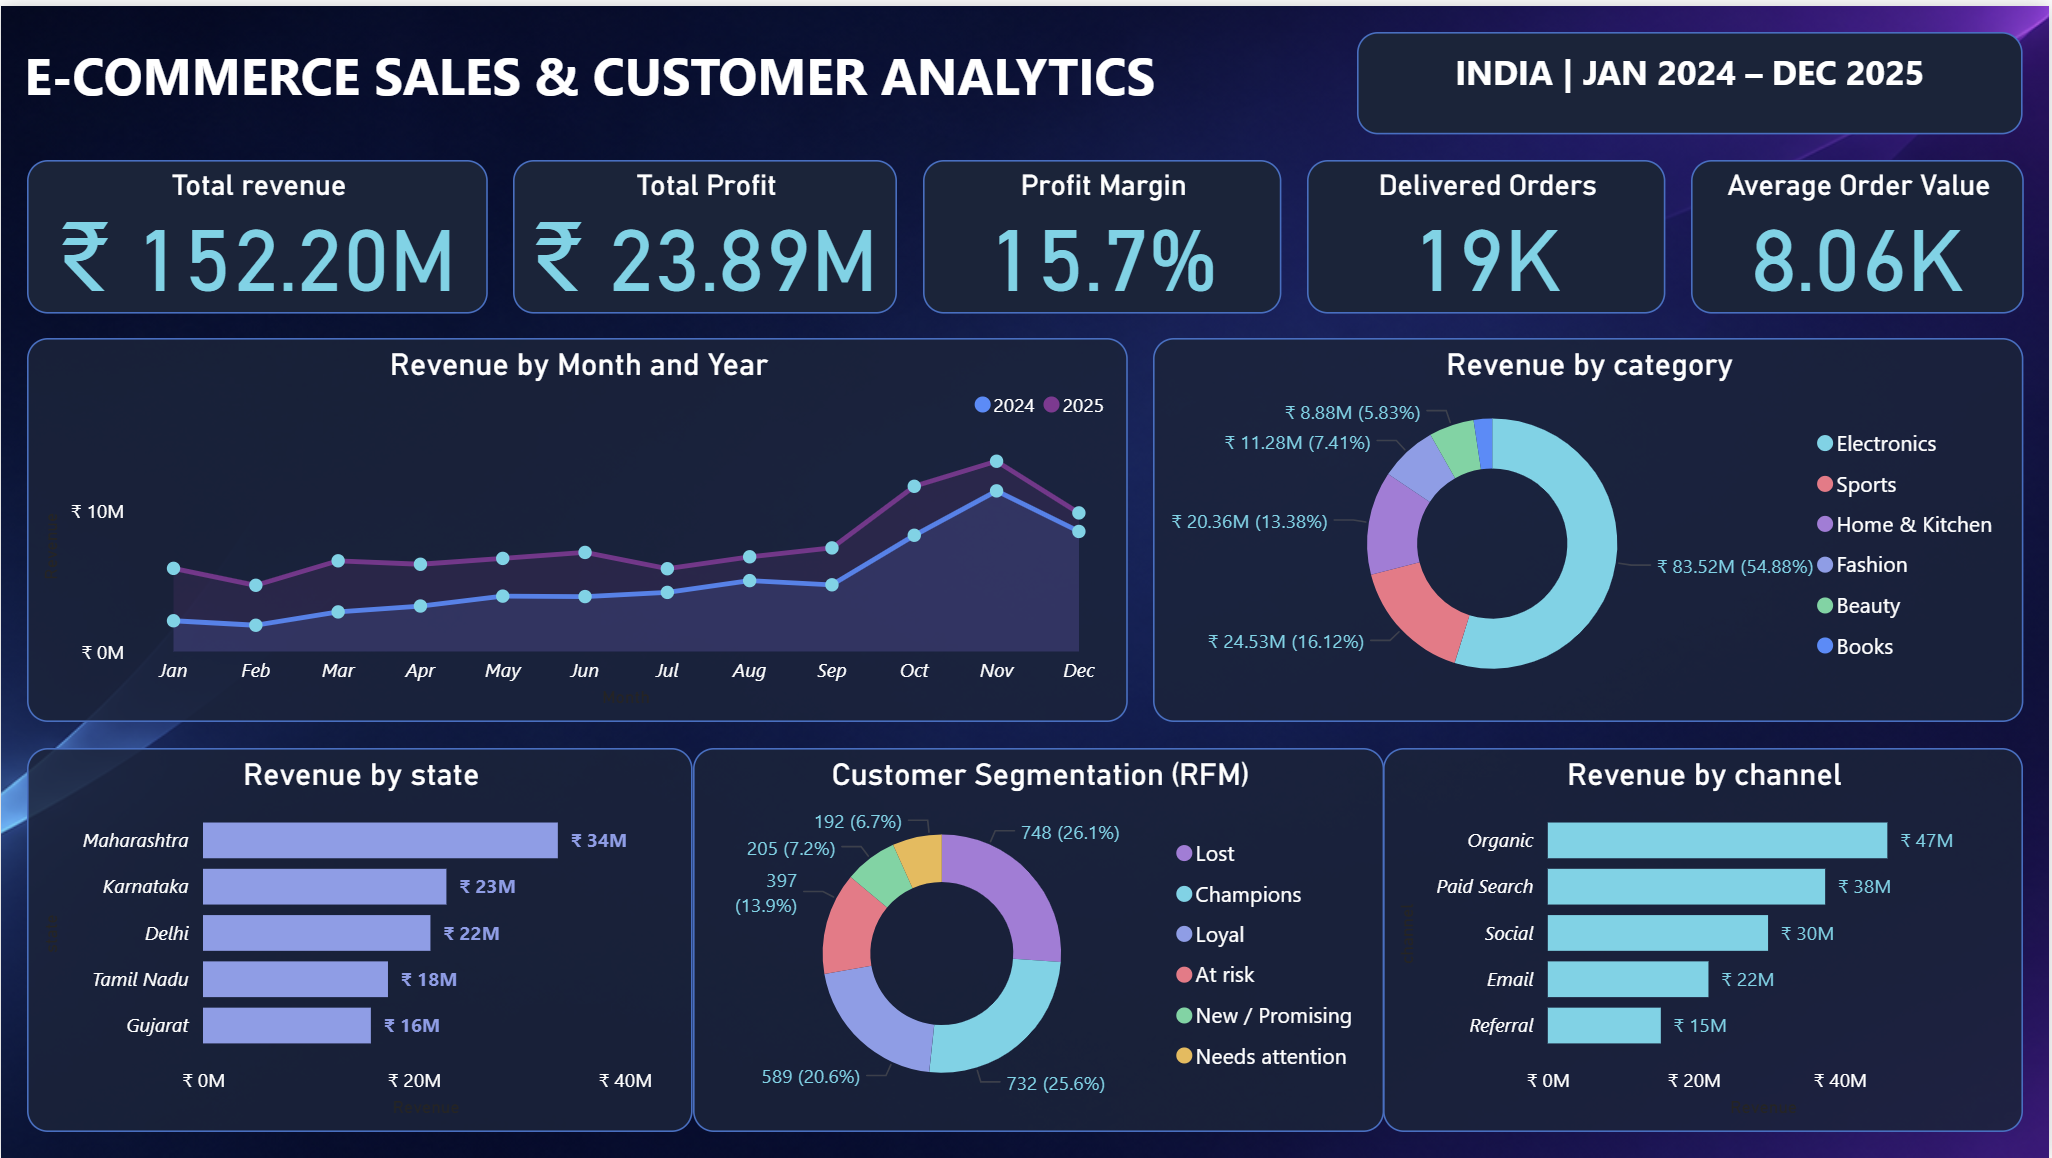

The dashboard page shown, as its layout file describes it:
{"tool":"powerbi","page":{"name":"Page 1","canvas":[1280,720],"ordinal":0},"visuals":[{"type":"textbox","box":[0,16,736,112],"z":0},{"type":"card","title":"Total revenue","fields":{"Values":["cleaned_orderitems.Revenue"]},"box":[16,96,288,96],"z":1000},{"type":"card","title":"Total Profit","fields":{"Values":["cleaned_orderitems.Profit"]},"box":[320,96,240,96],"z":2000},{"type":"card","title":"Profit Margin","fields":{"Values":["cleaned_orderitems.Margin %"]},"box":[576,96,224,96],"z":3000},{"type":"card","title":"Delivered Orders","fields":{"Values":["cleaned_orderitems.Orders"]},"box":[816,96,224,96],"z":4000},{"type":"card","title":"Average Order Value","fields":{"Values":["cleaned_orderitems.AOV"]},"box":[1056,96,208,96],"z":5000},{"type":"lineChart","fields":{"Y":["cleaned_orderitems.Revenue"],"Category":["Date.Month"],"Series":["Date.Year"]},"box":[16,208,688,240],"z":6000},{"type":"donutChart","fields":{"Category":["cleaned_products.category"],"Y":["cleaned_orderitems.Revenue"]},"box":[720,208,544,240],"z":7000},{"type":"clusteredBarChart","fields":{"Category":["cleaned_orders.channel"],"Y":["cleaned_orderitems.Revenue"]},"box":[864,464,400,240],"z":8000},{"type":"clusteredBarChart","fields":{"Category":["cleaned_customers.state"],"Y":["cleaned_orderitems.Revenue"]},"box":[16,464,416,240],"z":9000},{"type":"donutChart","title":"Customer Segmentation (RFM)","fields":{"Category":["rfm_segments.segment"],"Y":["CountNonNull(rfm_segments.customer_id)"]},"box":[432,464,432,240],"z":10000},{"type":"textbox","box":[848,16,416,64],"z":11000}]}

Visuals, with their boxes in screenshot pixels (x1, y1, x2, y2), scaled from the page's 1280x720 canvas onto the 2052x1158 screenshot:
textbox: 0,26,1180,206
"Total revenue" card: 26,154,487,309
"Total Profit" card: 513,154,898,309
"Profit Margin" card: 923,154,1282,309
"Delivered Orders" card: 1308,154,1667,309
"Average Order Value" card: 1693,154,2026,309
lineChart - cleaned_orderitems.Revenue x Date.Month: 26,335,1129,721
donutChart - cleaned_products.category x cleaned_orderitems.Revenue: 1154,335,2026,721
clusteredBarChart - cleaned_orders.channel x cleaned_orderitems.Revenue: 1385,746,2026,1132
clusteredBarChart - cleaned_customers.state x cleaned_orderitems.Revenue: 26,746,693,1132
"Customer Segmentation (RFM)" donutChart: 693,746,1385,1132
textbox: 1359,26,2026,129
